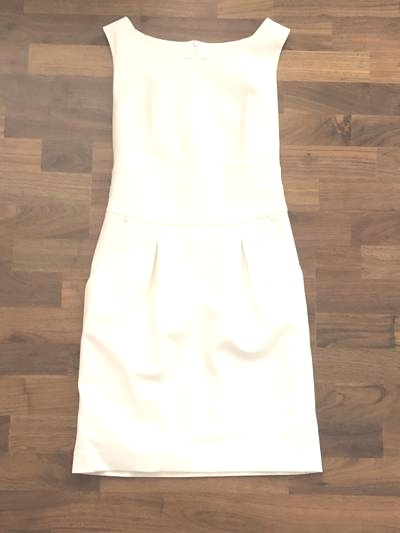Dress: (56, 11, 341, 492)
